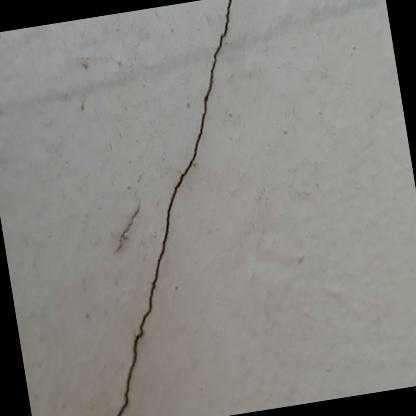crack: (115, 0, 230, 416)
